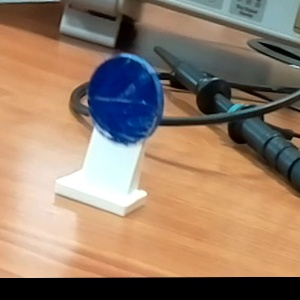circle: (42, 52, 180, 224)
